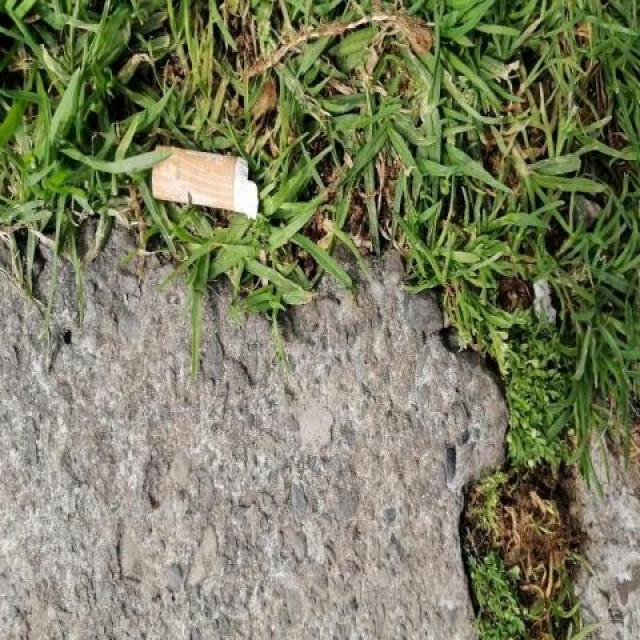non-organic waste: (150, 140, 262, 224)
